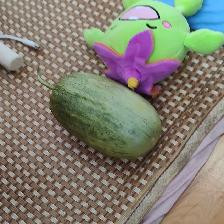gua: (52, 79, 160, 145)
